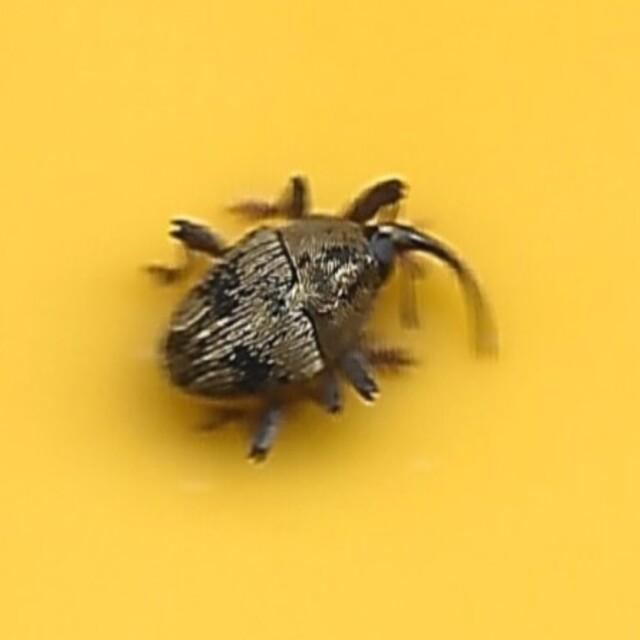Coleoptera: (143, 178, 497, 462)
